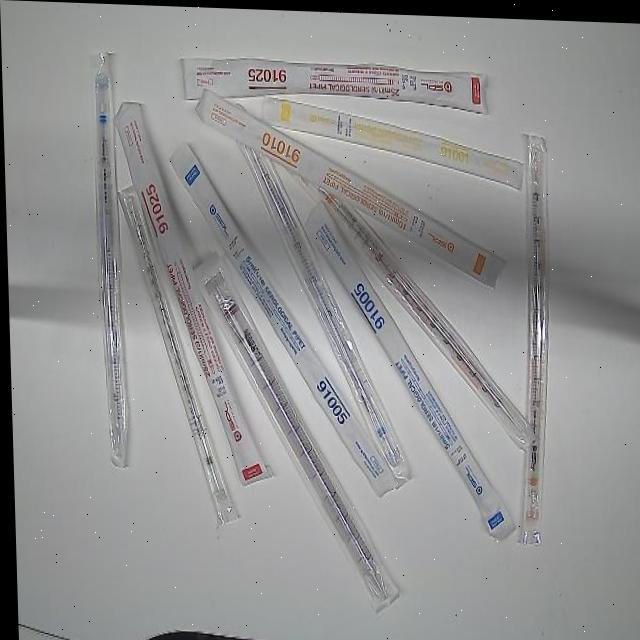Serelogical Pipet 1 mL - Sealed: (259, 91, 524, 190)
Serelogical Pipet 10 mL - Sealed: (282, 138, 535, 452), (505, 124, 556, 545)
Serelogical Pipet 2 mL - Sealed: (118, 187, 238, 524)
Serelogical Pipet 25 mL - Sealed: (113, 96, 272, 487), (180, 55, 489, 113)
Serelogical Pipet 5 mL - Sealed: (166, 137, 397, 496), (297, 193, 515, 538), (232, 127, 416, 482), (89, 44, 127, 472)
Serelogical Pipet 50 mL - Sealed: (189, 246, 402, 614)
